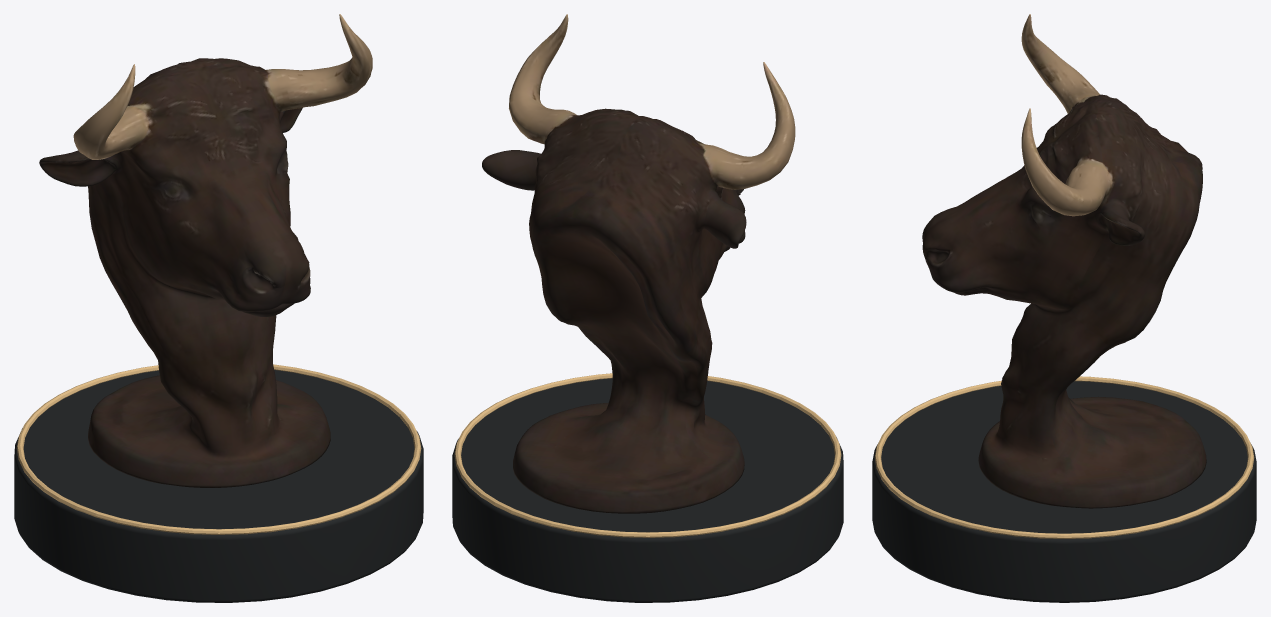
The model's file is hp_room_cc0_bull_head_plinth.glb.
3 views of the same model, side by side, from view 1: azimuth 30°, elevation 25°; view 2: azimuth 150°, elevation 25°; view 3: azimuth 270°, elevation 25° (orthographic). The views are drawn at different scales.
Visible parts, largest first — view 1: bull_head, hp_museum_low_black_plinth, hp_museum_plinth_brass_lip; view 2: bull_head, hp_museum_low_black_plinth, hp_museum_plinth_brass_lip; view 3: bull_head, hp_museum_low_black_plinth, hp_museum_plinth_brass_lip.
Boxes of the visible parts, box(x1,y1,x2,y2) form: bull_head: box(39, 14, 372, 487); hp_museum_low_black_plinth: box(14, 370, 423, 602); hp_museum_plinth_brass_lip: box(16, 364, 421, 534); bull_head: box(482, 14, 795, 513); hp_museum_low_black_plinth: box(452, 378, 843, 602); hp_museum_plinth_brass_lip: box(454, 373, 841, 537); bull_head: box(922, 14, 1206, 508); hp_museum_low_black_plinth: box(872, 381, 1256, 602); hp_museum_plinth_brass_lip: box(874, 376, 1254, 538).
Size of the model in its own units: 0.9651 by 1.28 by 0.9651.
3 materials, 1 textured.
